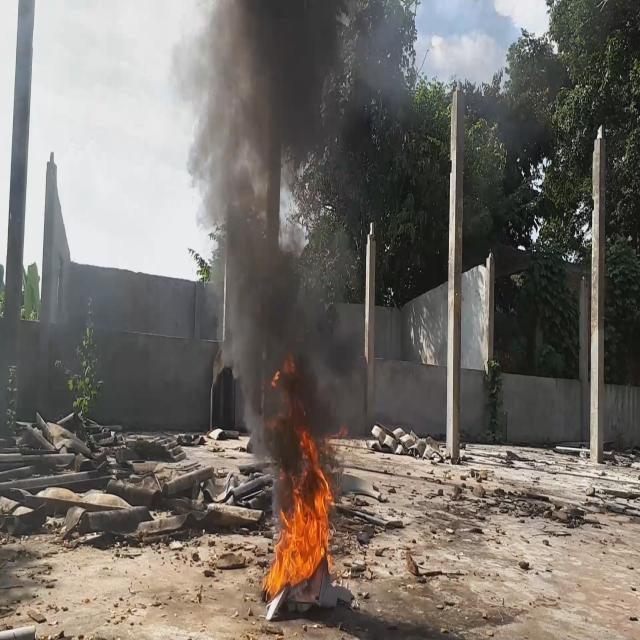Fire: (263, 401, 334, 601)
Smoke: (171, 0, 343, 479)
